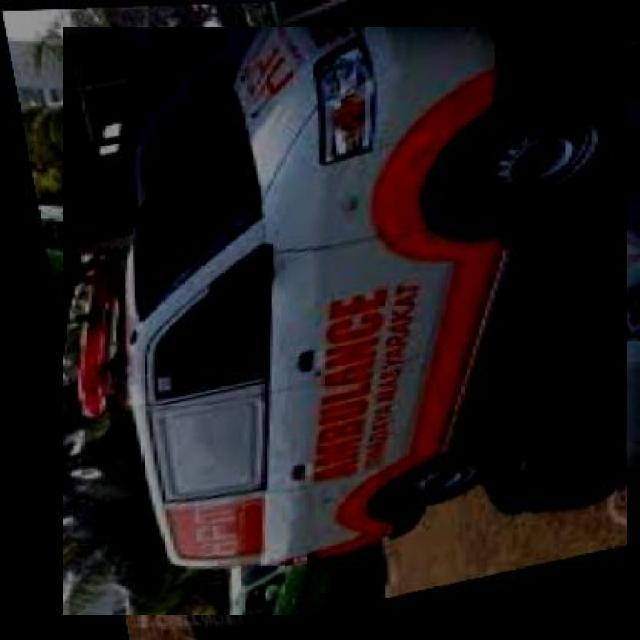emergency-vehicle: (57, 32, 634, 610)
